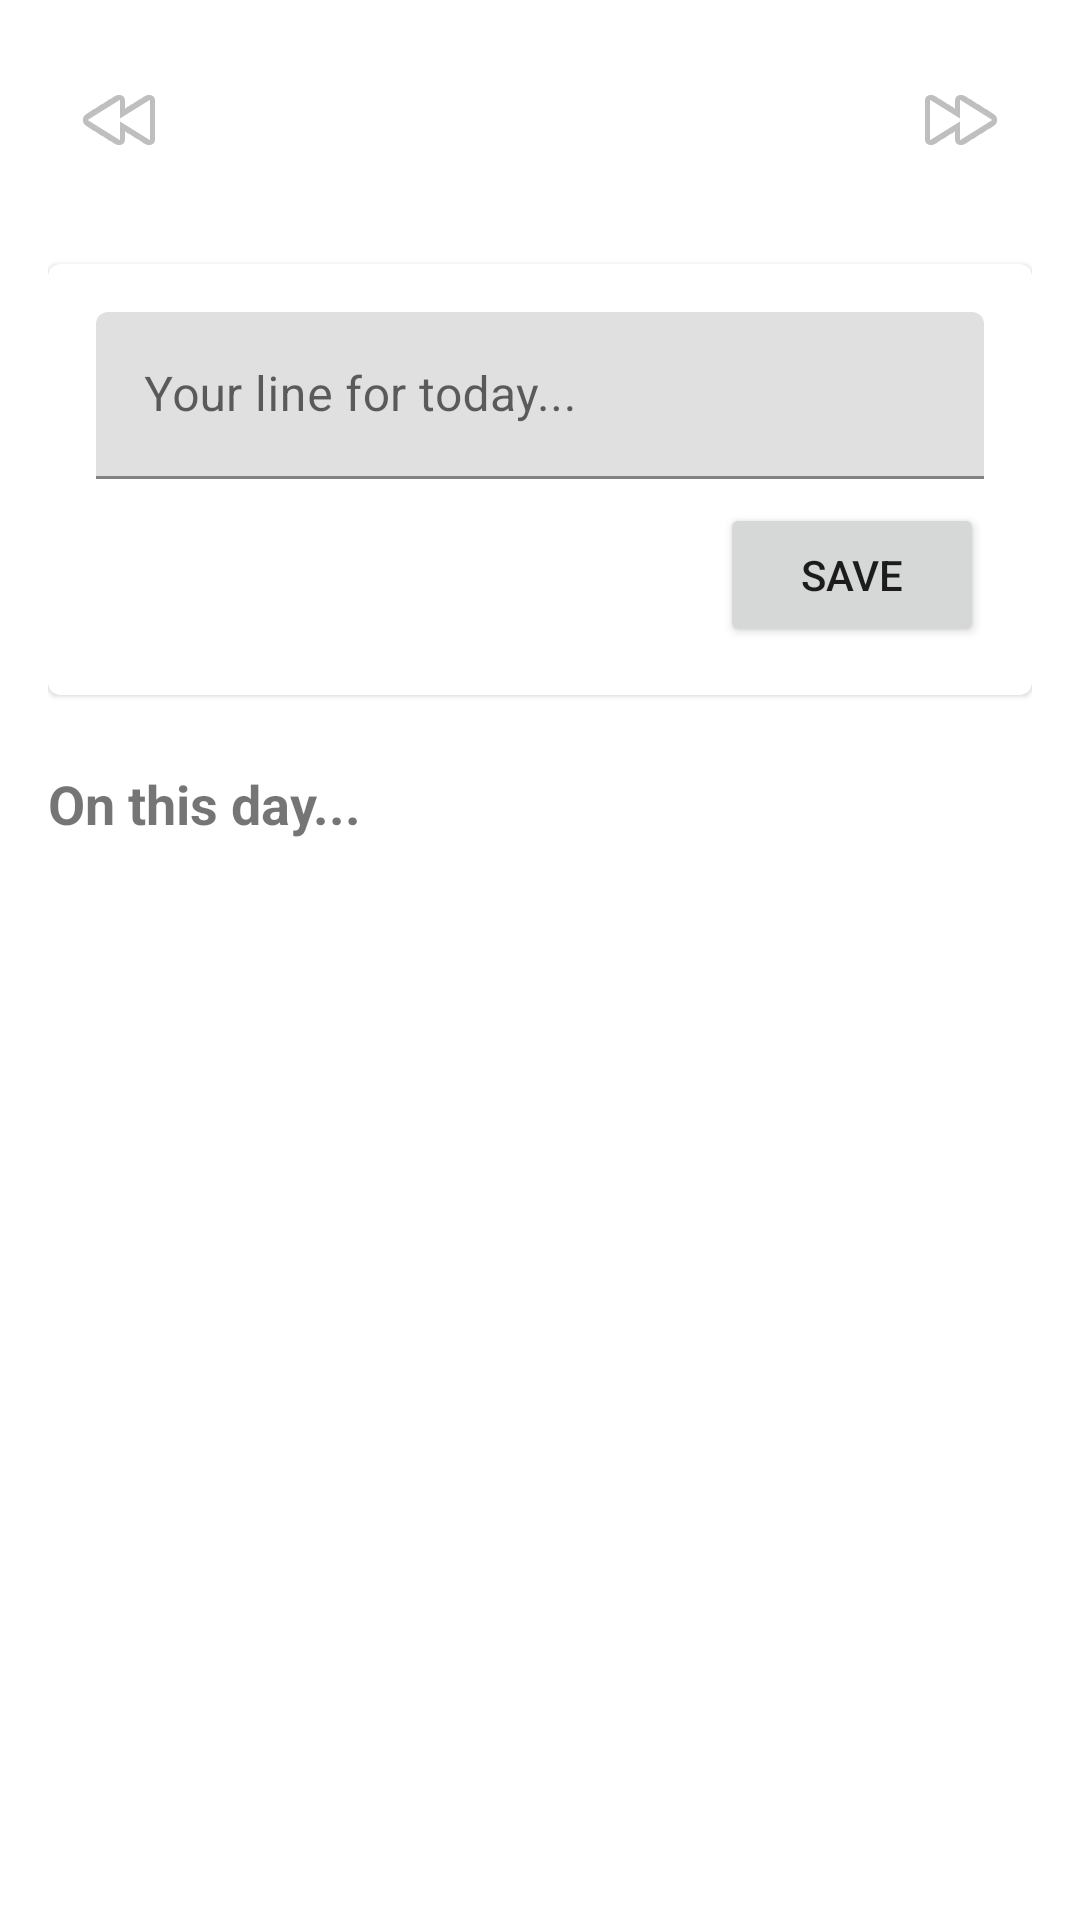

Icon bounding boxes for this 1080px x 1920px phone screenshot, format bbox=[x1, y1, x2, y2]:
Next Day: bbox=[925, 95, 997, 145]
Previous Day: bbox=[83, 95, 155, 145]
